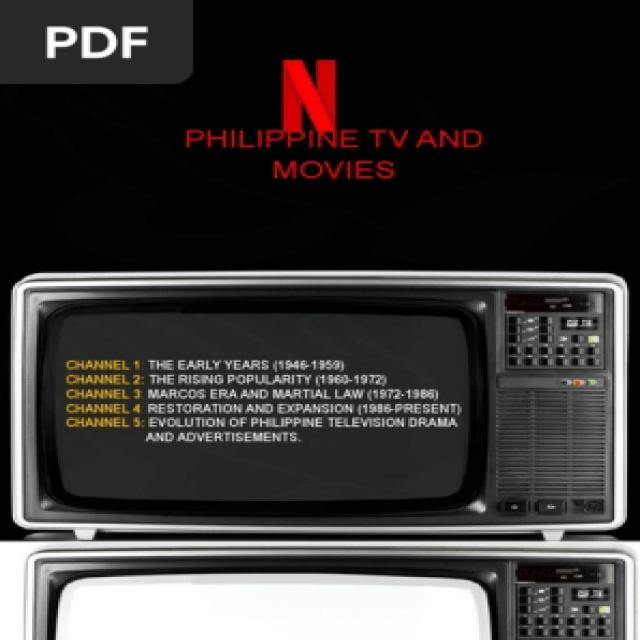electronics: (11, 273, 623, 535), (26, 538, 631, 637), (26, 541, 631, 637), (56, 559, 485, 637), (515, 562, 612, 634), (0, 538, 41, 637), (47, 24, 146, 58), (101, 559, 107, 569), (157, 559, 161, 566)
